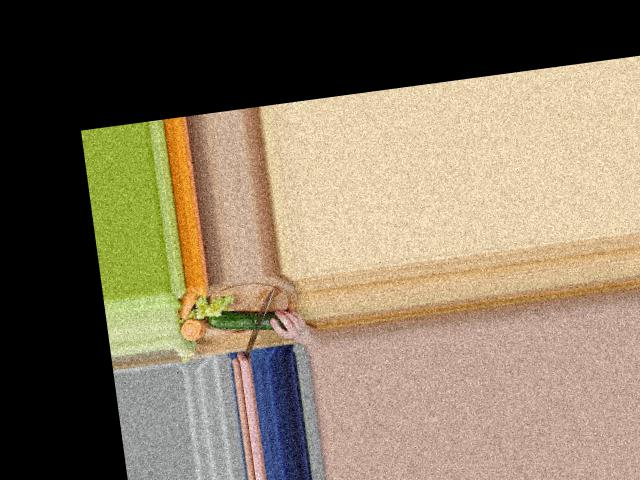cucumber: (206, 304, 285, 338)
